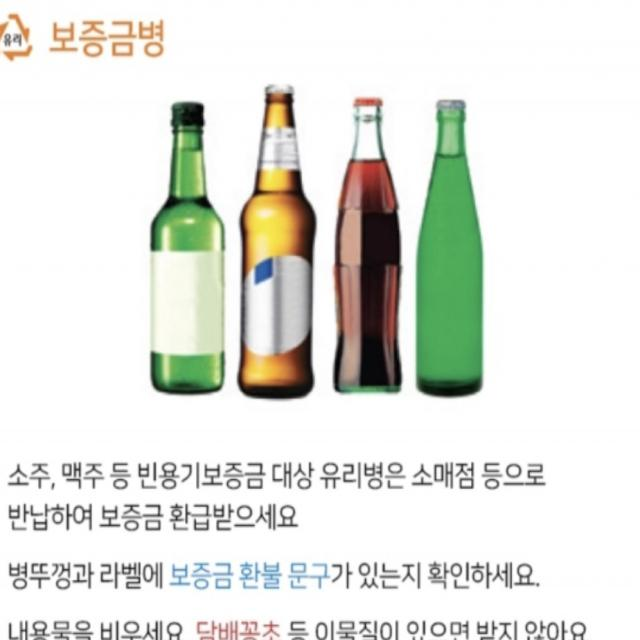recyclable: (224, 78, 329, 404), (140, 86, 235, 402), (408, 83, 499, 410), (328, 74, 408, 407)
